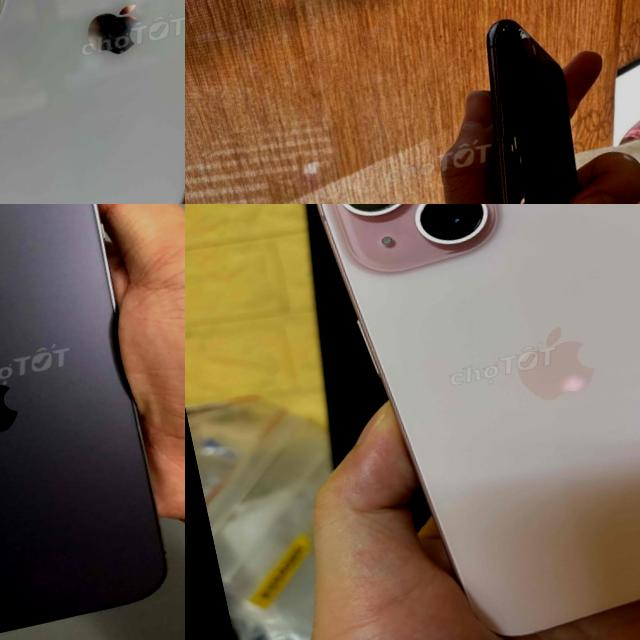gen_11: (0, 0, 185, 204), (486, 19, 580, 204)
gen_14: (0, 204, 185, 640)
gen_15: (287, 204, 640, 640)
